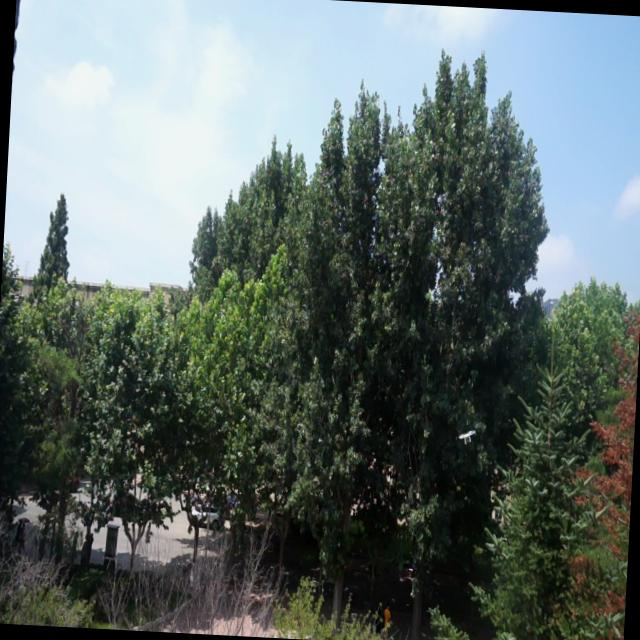drone: (457, 424, 476, 447)
